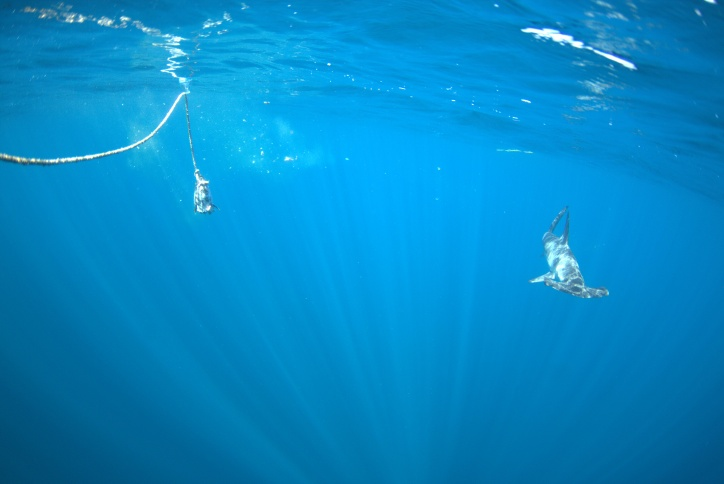Hammer: (498, 191, 638, 321)
